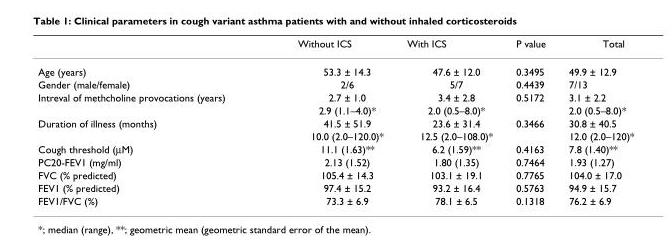table: (37, 37, 633, 206)
table column: (37, 37, 260, 206), (260, 37, 394, 206), (394, 37, 503, 206), (556, 37, 633, 206), (503, 37, 556, 206)
table column header: (37, 37, 633, 57)
table row: (37, 37, 633, 57), (37, 57, 633, 77), (37, 141, 633, 155), (37, 77, 633, 90), (37, 90, 633, 103), (37, 103, 633, 116), (37, 116, 633, 129), (37, 155, 633, 168), (37, 168, 633, 181), (37, 181, 633, 194), (37, 129, 633, 141), (37, 194, 633, 206)
table spanning cell: (37, 90, 260, 116), (37, 116, 260, 141)
